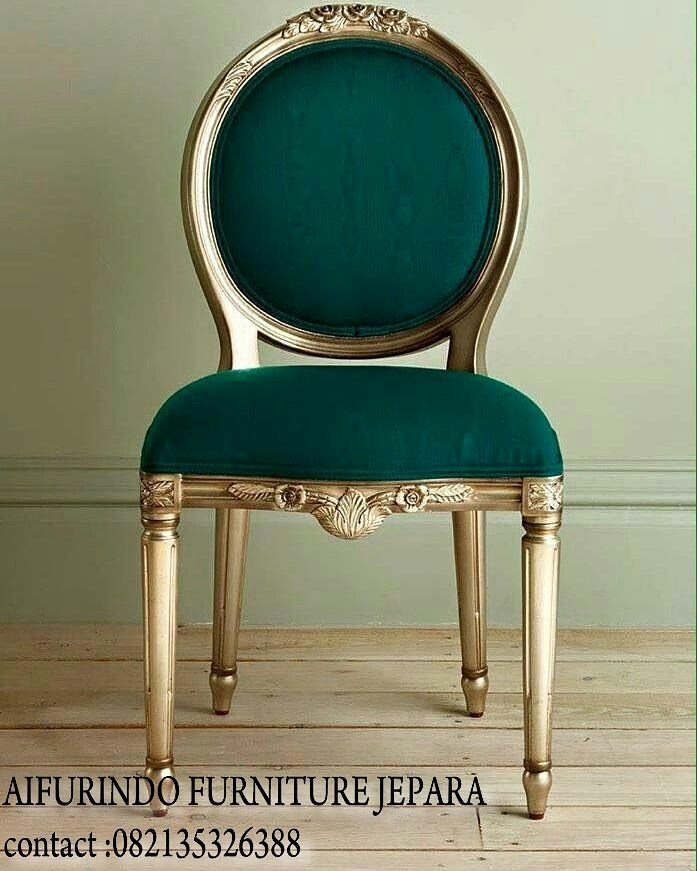Carving Chair: (119, 29, 586, 819)
